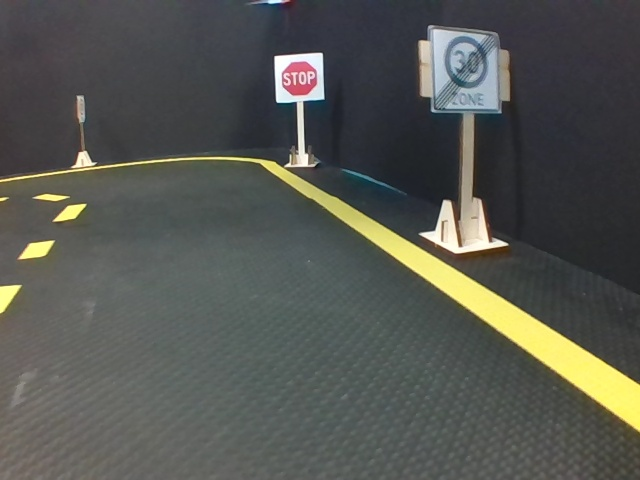30: (76, 95, 83, 123)
no30: (430, 25, 497, 110)
stop: (274, 55, 324, 101)
